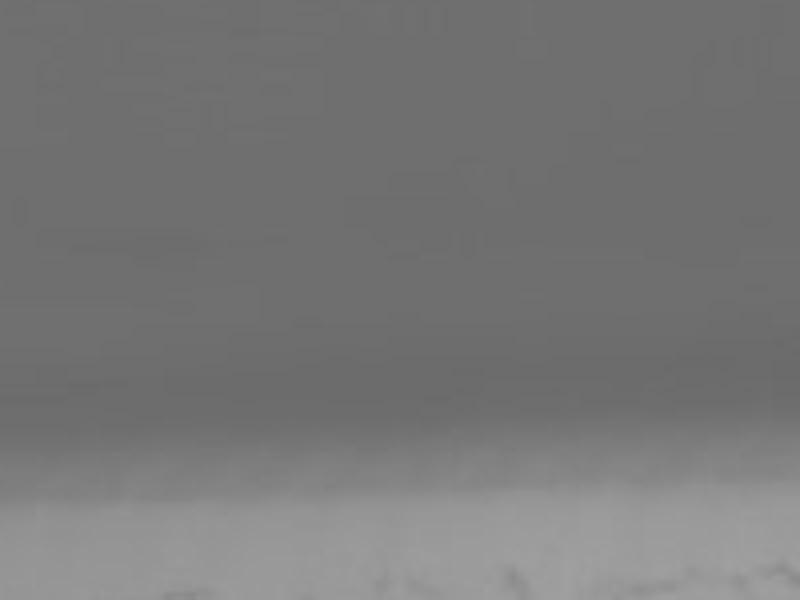defect: (599, 567, 676, 600), (499, 558, 533, 596), (757, 556, 796, 589), (374, 562, 394, 600), (160, 584, 202, 600), (406, 570, 435, 593), (727, 569, 745, 593)
